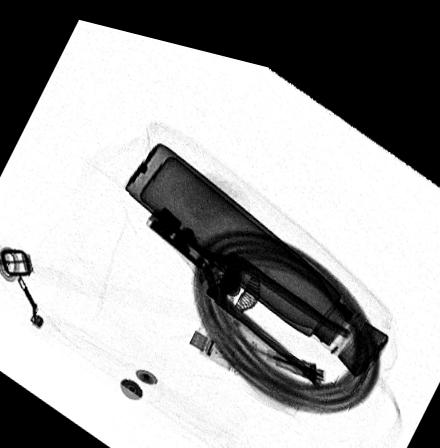Pliers: (145, 199, 349, 366)
